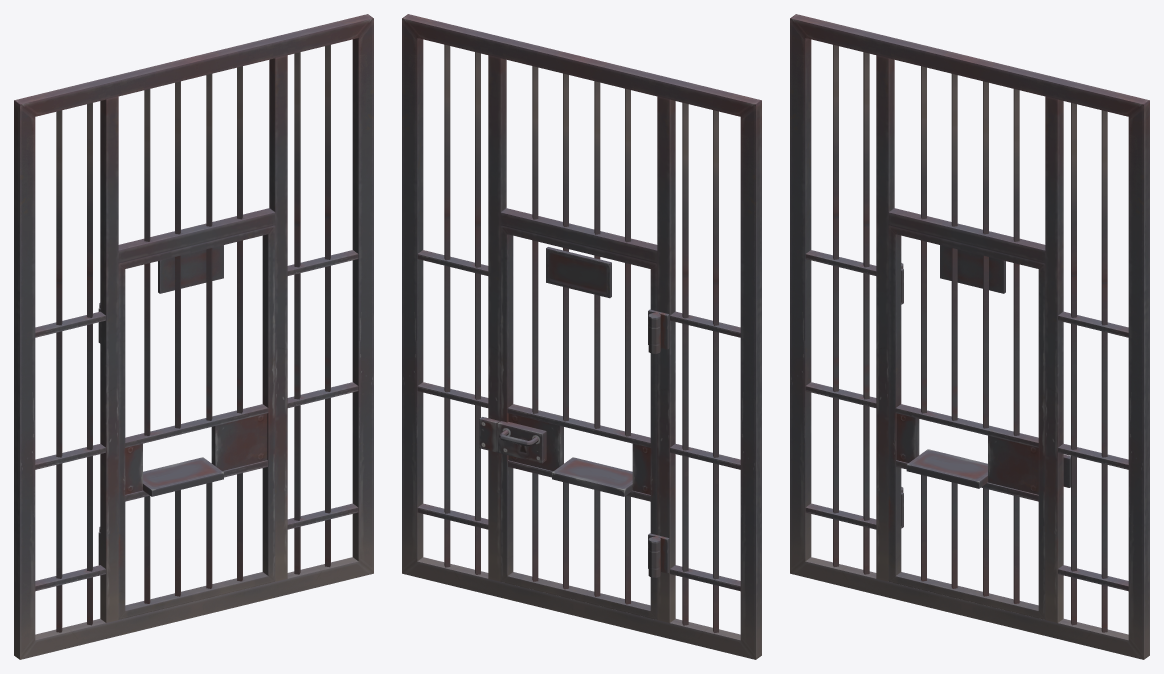
The model's file is P_Cage_003_S1_M01.obj.
3 views of the same model, side by side, from view 1: azimuth 30°, elevation 25°; view 2: azimuth 150°, elevation 25°; view 3: azimuth 330°, elevation 25° (orthographic).
Bounding box in the file's own units: 2 × 3 × 0.2414.
Materials: 1 (1 with a texture image).
